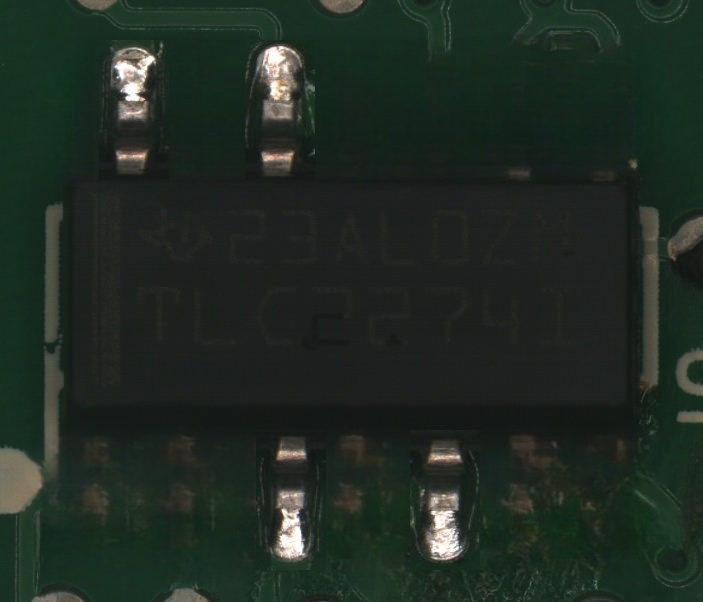OK: (256, 430, 326, 570), (245, 40, 315, 180), (99, 40, 169, 180), (410, 430, 480, 570)
